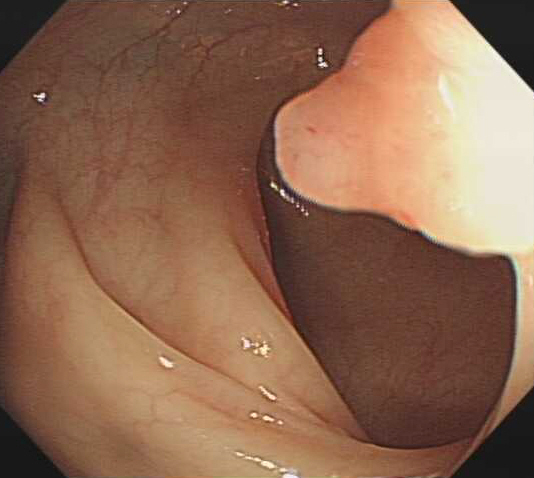adenoma: (266, 10, 514, 262)
